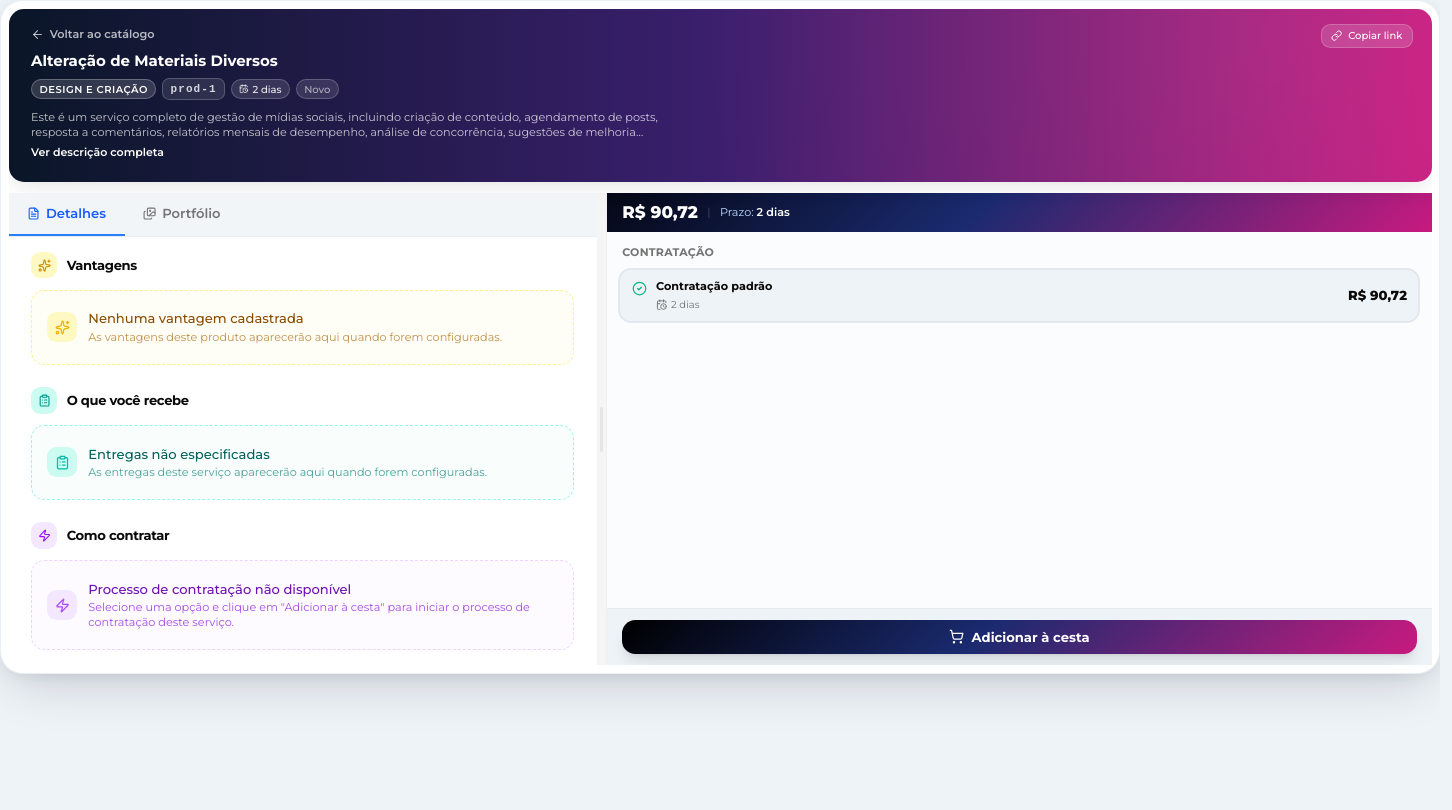
it: ProductContractView › 10. descrição completa (sem presentation estruturada) pode ser expandida e recolhida
Click the button "Ver descrição completa".
click(98, 153)  # box [31,144,164,161]
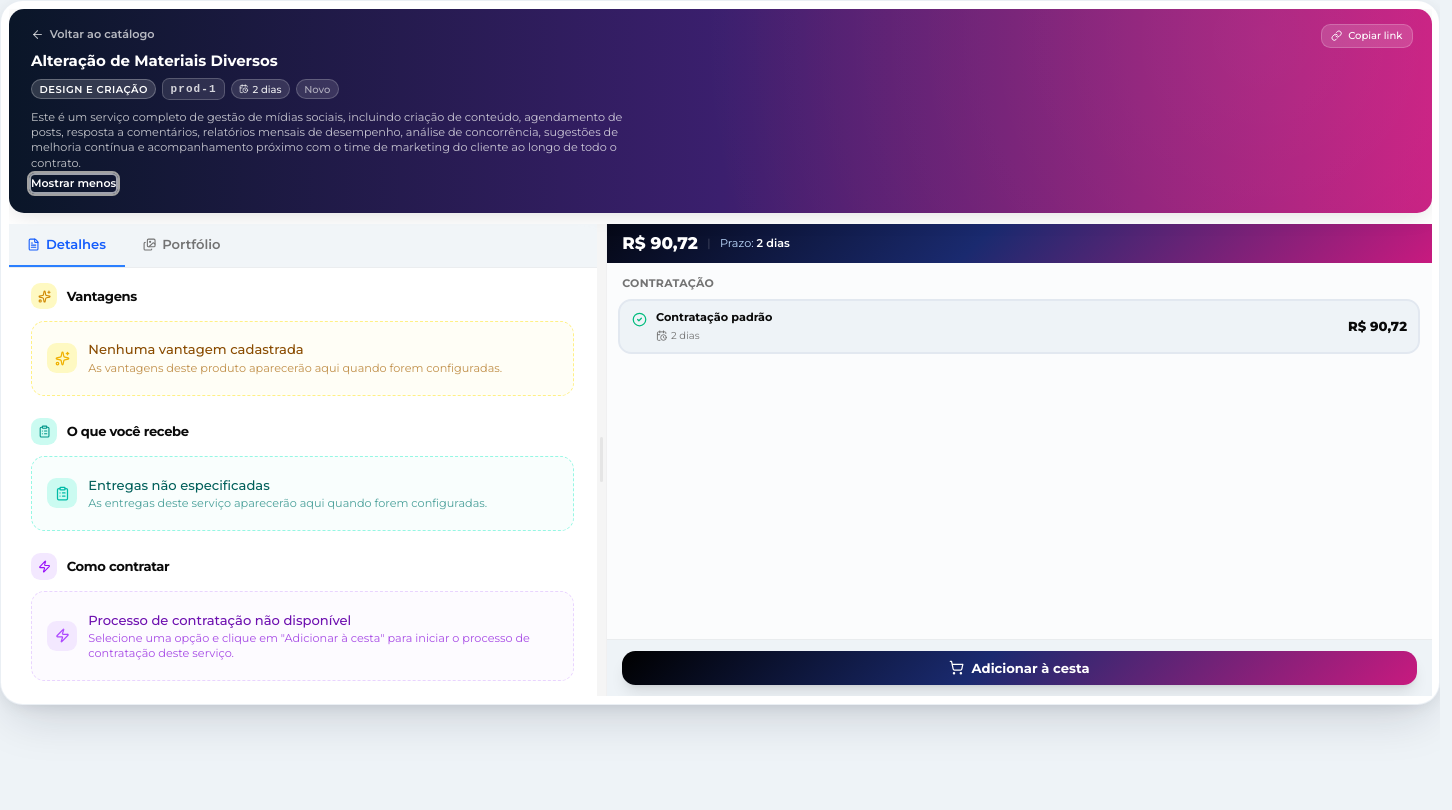
Now the button "Mostrar menos" is shown
Click the button "Mostrar menos".
click(74, 184)  # box [31,175,116,192]
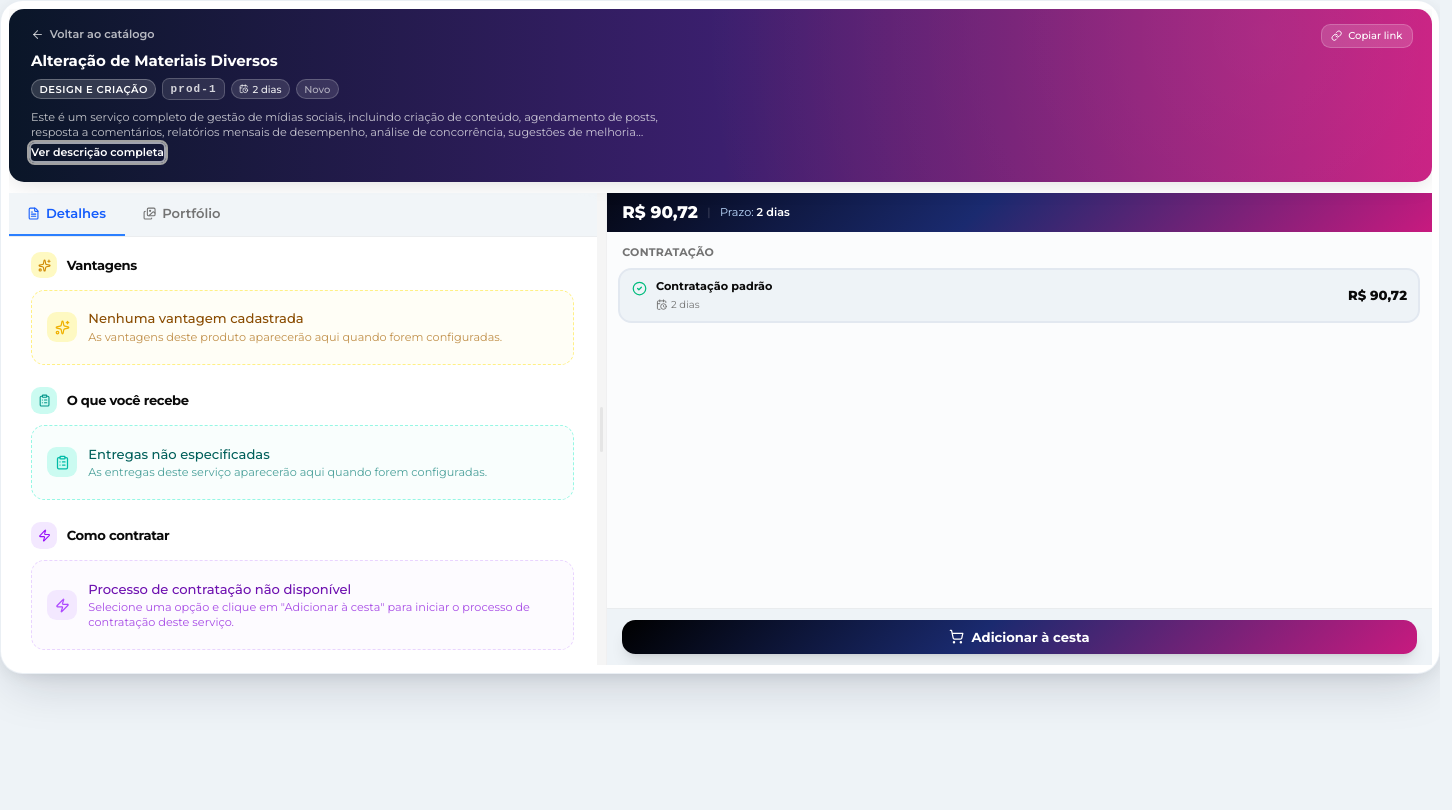
Now the button "Ver descrição completa" is shown, box [31,144,164,161]
